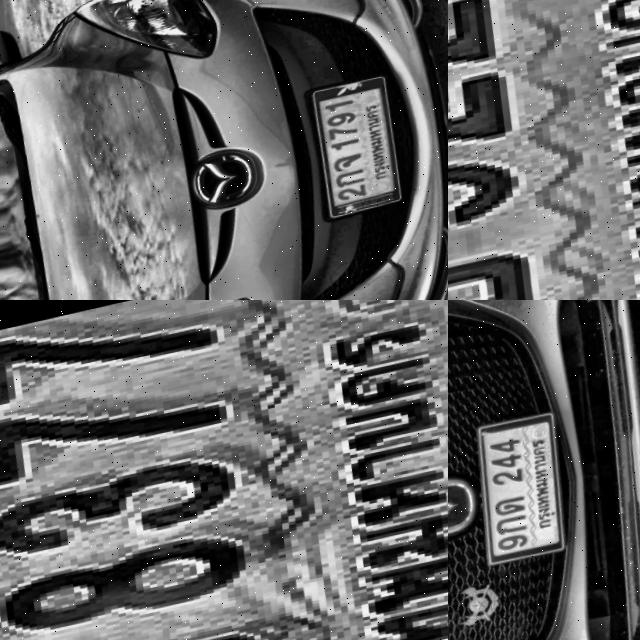license-plate: (0, 300, 448, 640), (448, 0, 640, 300), (466, 410, 588, 566), (310, 74, 416, 222)
